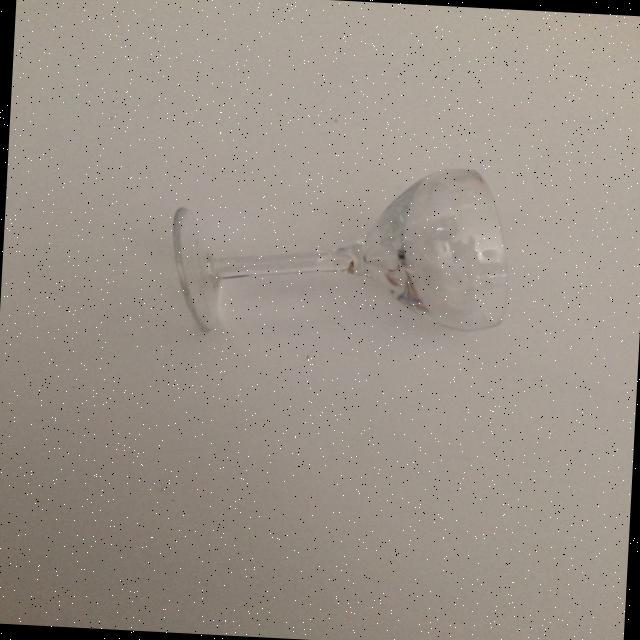glass: (165, 152, 516, 349)
